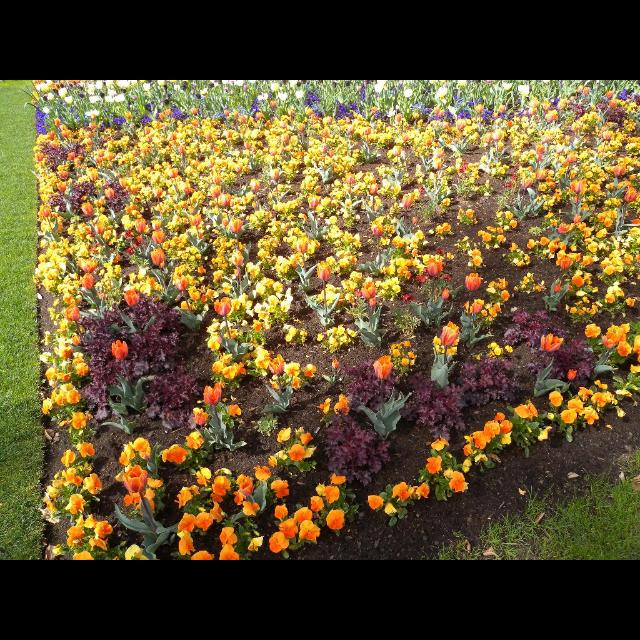Flower: (37, 80, 639, 560), (429, 318, 473, 372)
